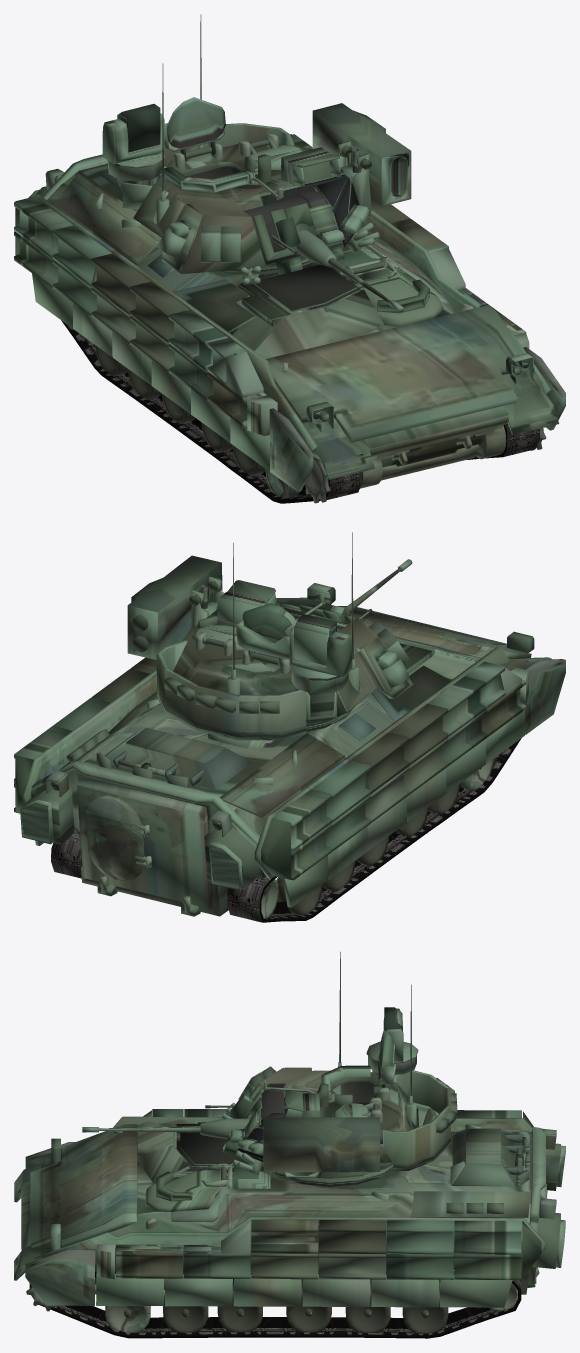
The picture shows the model from 3 angles, top to bottom: view 1: azimuth 30°, elevation 25°; view 2: azimuth 150°, elevation 25°; view 3: azimuth 270°, elevation 25°; orthographic projection. The views are drawn at different scales.
Visible parts, largest first — view 1: Object_4, Object_5, Object_3; view 2: Object_4, Object_5, Object_3; view 3: Object_4, Object_5, Object_3.
Part boxes in pixels (box(x1,y1,x2,y2)): Object_4: box(14, 14, 565, 503); Object_5: box(47, 103, 559, 498); Object_3: box(61, 320, 539, 503); Object_4: box(14, 532, 565, 916); Object_5: box(31, 555, 531, 918); Object_3: box(51, 738, 521, 922); Object_4: box(21, 951, 565, 1333); Object_5: box(14, 1008, 532, 1332); Object_3: box(29, 1271, 521, 1338).
Size of the model in its own units: 3.51 by 4.14 by 6.84.
3 materials, 2 textured.
